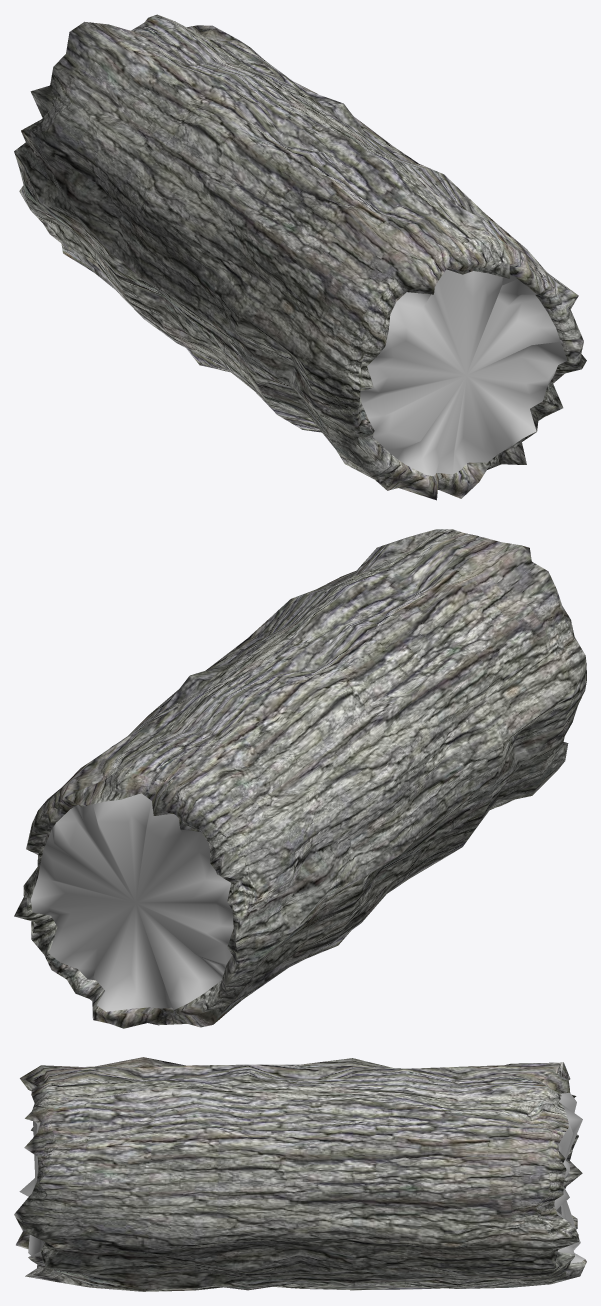
File: log.fbx
3 renders of one model, top to bottom at view 1: azimuth 30°, elevation 25°; view 2: azimuth 150°, elevation 25°; view 3: azimuth 270°, elevation 25°, orthographic. The views are drawn at different scales.
Visible parts, largest first — view 1: Log, log_ring; view 2: Log, log_ring; view 3: Log, log_ring.
Boxes of the visible parts, left/top/right/bottom form: Log: left=14, top=14, right=586, bottom=500; log_ring: left=360, top=269, right=567, bottom=476; Log: left=14, top=529, right=586, bottom=1028; log_ring: left=31, top=793, right=233, bottom=1011; Log: left=14, top=1057, right=586, bottom=1291; log_ring: left=19, top=1093, right=584, bottom=1263.
Bounding box in the file's own units: 1.08 × 1.07 × 2.62.
